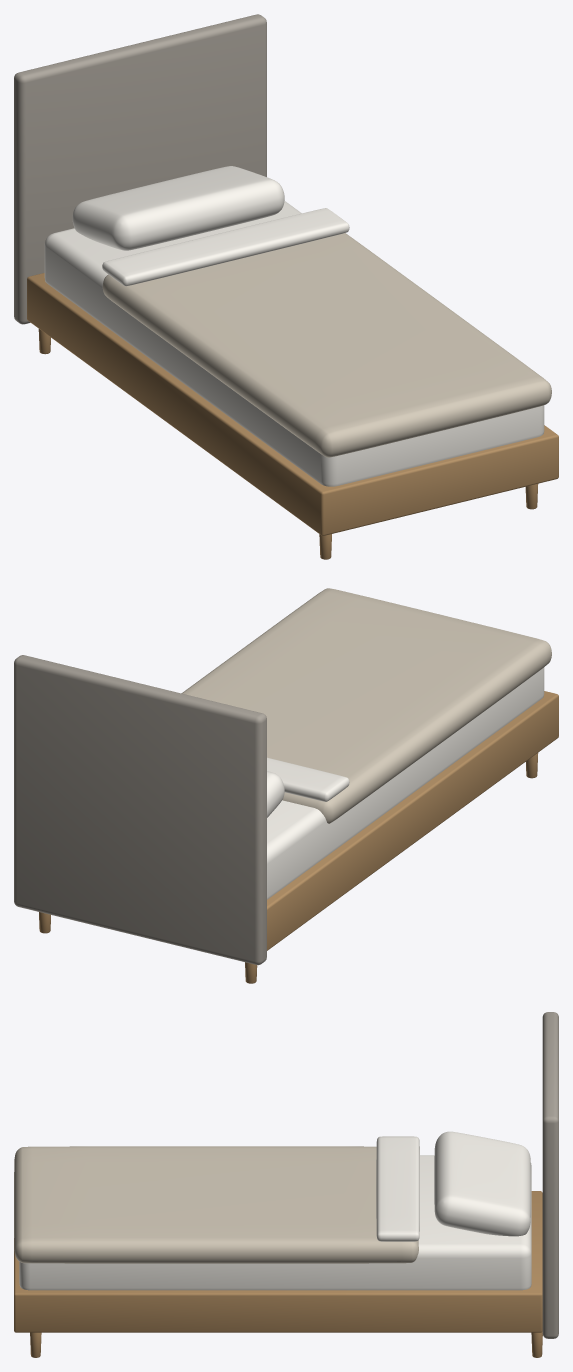
Rendered from cama-individual.glb.
The picture shows the model from 3 angles, top to bottom: view 1: azimuth 30°, elevation 25°; view 2: azimuth 150°, elevation 25°; view 3: azimuth 270°, elevation 25°; orthographic projection. The views are drawn at different scales.
Visible parts, largest first — view 1: Edredón, Cabecero, Bastidor.002, Colchón, Almohada, Embozo; view 2: Cabecero, Edredón, Bastidor.002, Colchón, Embozo, Almohada; view 3: Edredón, Bastidor.002, Colchón, Almohada, Cabecero, Embozo.
Part boxes in pixels (x1,y1,x2,y2): Edredón: (102, 233, 551, 457); Cabecero: (14, 14, 266, 324); Bastidor.002: (27, 273, 558, 535); Colchón: (44, 201, 544, 486); Almohada: (72, 166, 284, 250); Embozo: (102, 208, 349, 286); Cabecero: (14, 655, 266, 965); Edredón: (181, 588, 551, 823); Bastidor.002: (267, 691, 558, 950); Colchón: (267, 667, 544, 899); Embozo: (267, 757, 349, 801); Almohada: (267, 771, 284, 817); Edredón: (14, 1146, 418, 1263); Bastidor.002: (14, 1191, 542, 1332); Colchón: (19, 1155, 531, 1290); Almohada: (434, 1131, 530, 1236); Cabecero: (542, 1012, 558, 1338); Embozo: (376, 1136, 419, 1241).
Bounding box in the file's own units: 0.94 × 1 × 2.
